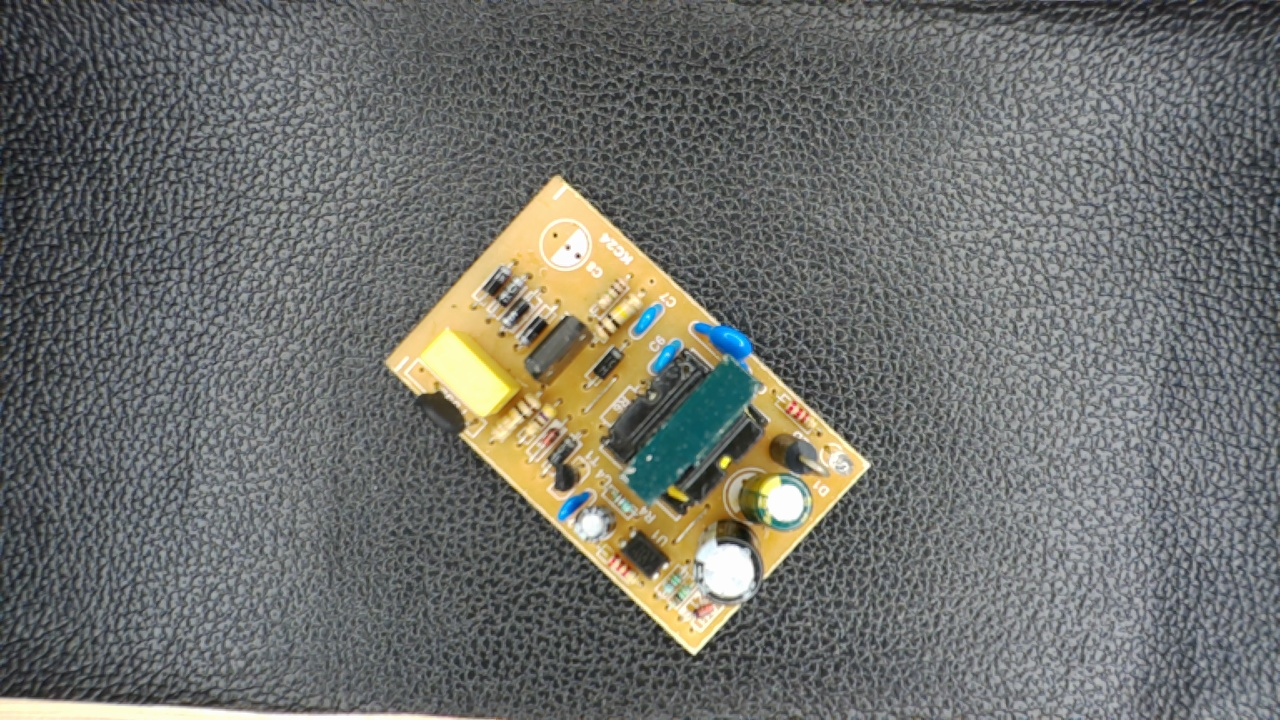fuse: (411, 375, 479, 441)
mov: (689, 315, 764, 374)
optocoupler: (614, 524, 669, 582)
